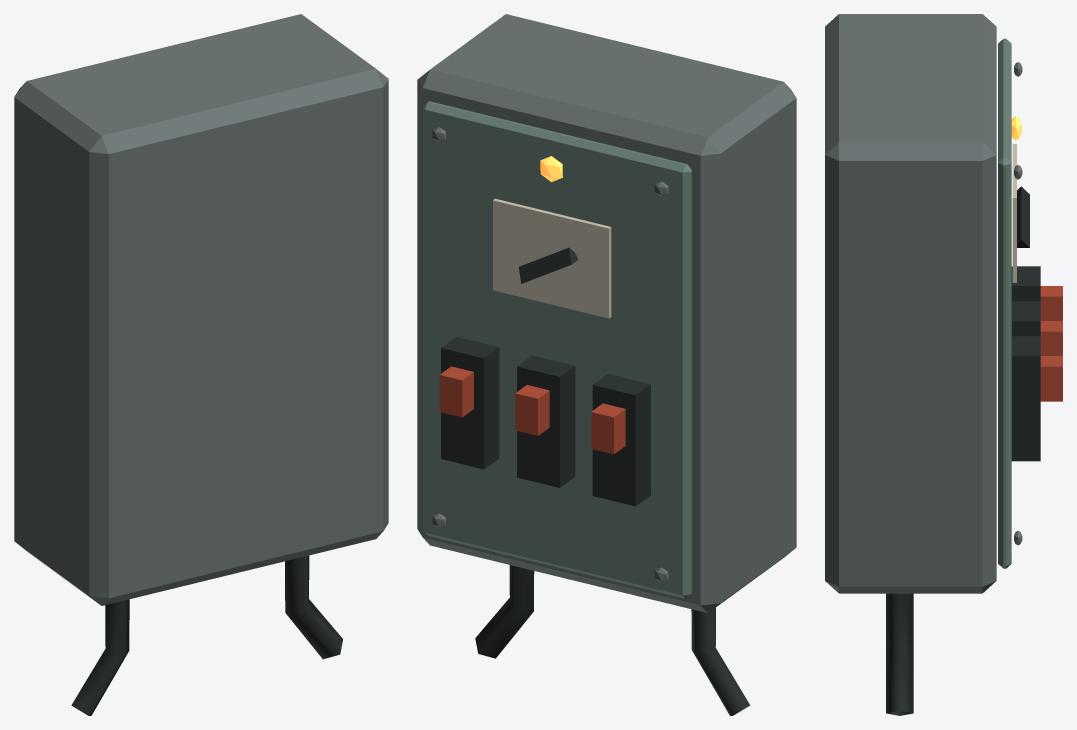
The model's file is power.glb.
3 views of the same model, side by side, from view 1: azimuth 30°, elevation 25°; view 2: azimuth 150°, elevation 25°; view 3: azimuth 270°, elevation 25° (orthographic). The views are drawn at different scales.
Visible parts, largest first — view 1: power; view 2: power; view 3: power.
Part boxes in pixels (x1=…): power: x1=14, y1=14, x2=388, y2=715; power: x1=417, y1=14, x2=796, y2=715; power: x1=825, y1=14, x2=1062, y2=715.
Size of the model in its own units: 0.6 by 1.16 by 0.43.
